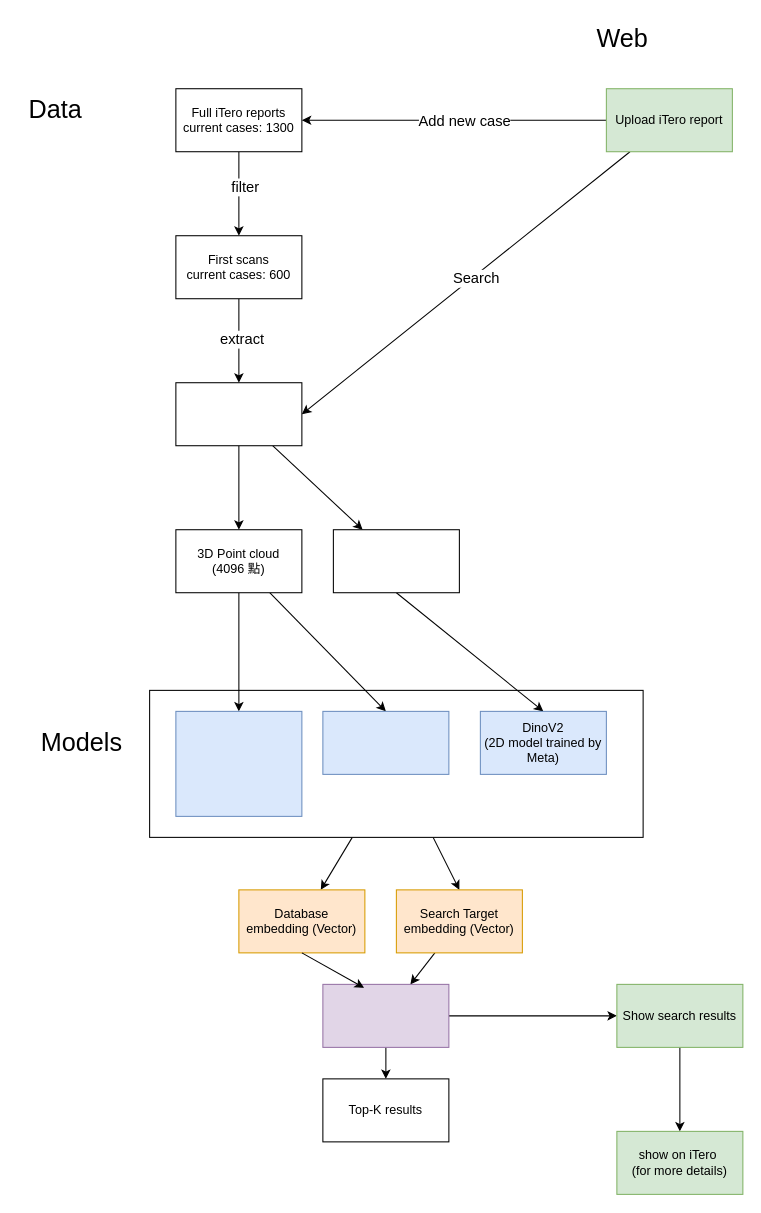
The diagram is 761 pixels wide and 1213 high, and some of its shapes have lost their labels. Here are the shapes that lost their labels. From the top down, the centre of each, then its label:
At (x=238, y=414): "3D .stl files".
At (x=395, y=561): "5 角度截圖 + 法向量著色 2D 圖".
At (x=385, y=742): "pointMAE (self trained)".
At (x=238, y=763): "simCLR (self trained) (base model / finetuned model / retrained model)".
At (x=385, y=1015): "Cosine similarity search".
